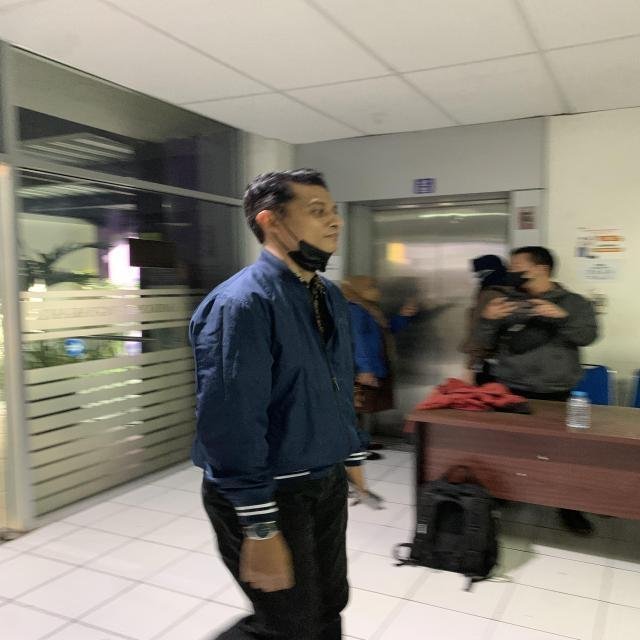hairnet: (271, 217, 341, 276)
